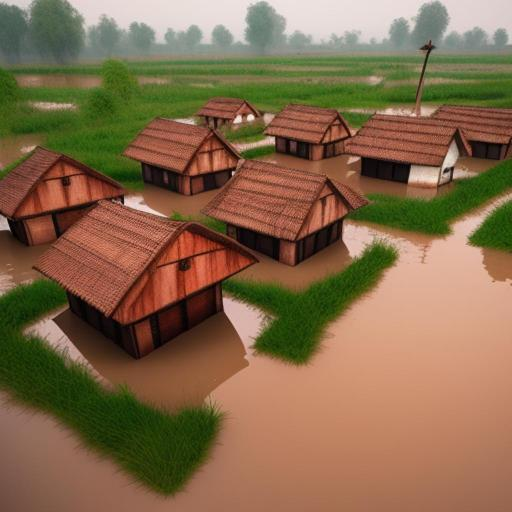flood: (0, 192, 512, 512), (264, 153, 449, 198), (0, 216, 48, 293), (125, 184, 218, 216), (184, 74, 417, 86), (0, 134, 44, 169), (14, 74, 100, 88), (456, 158, 498, 178), (233, 136, 276, 152), (350, 106, 412, 115), (32, 102, 76, 110), (378, 105, 412, 115), (428, 77, 475, 84), (138, 76, 170, 85), (175, 116, 197, 124), (422, 106, 436, 116), (264, 112, 274, 125)
house: (26, 199, 247, 355), (198, 156, 372, 269), (0, 144, 128, 248), (345, 111, 473, 191), (132, 118, 234, 202), (264, 102, 356, 162), (430, 101, 512, 161), (197, 95, 266, 133)
